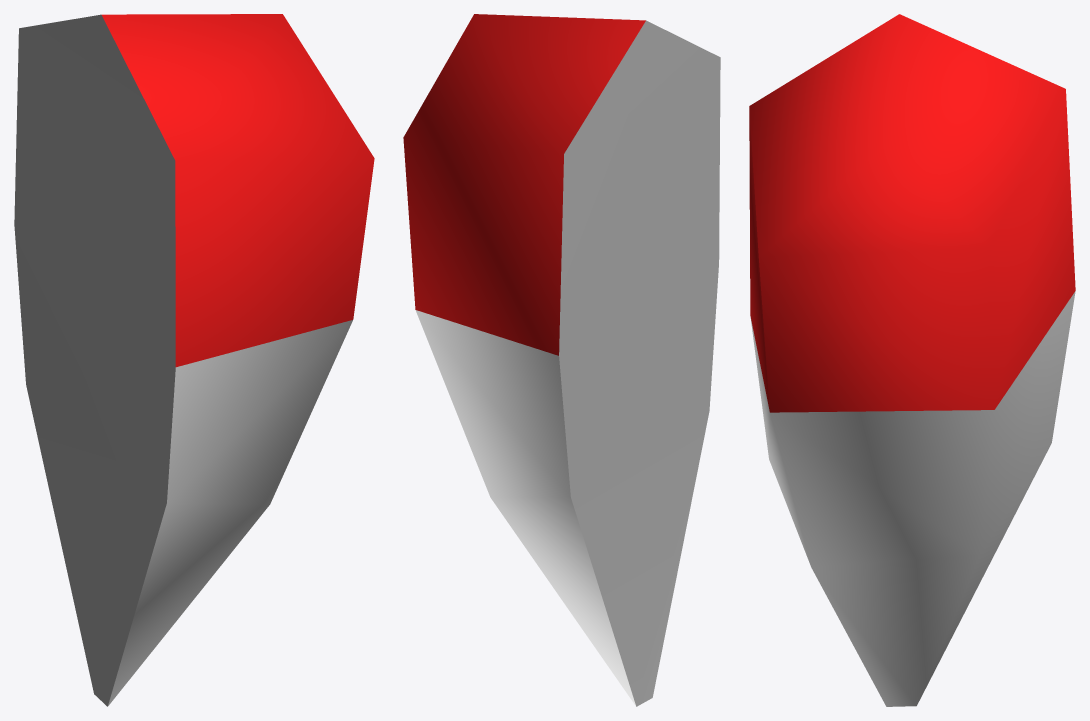
Rendered from ShoeLeft.obj.
3 views of the same model, side by side, from view 1: azimuth 30°, elevation 25°; view 2: azimuth 150°, elevation 25°; view 3: azimuth 270°, elevation 25° (orthographic).
Bounding box in the file's own units: 1.04 × 3.36 × 1.43.
3 materials, 3 textured.
